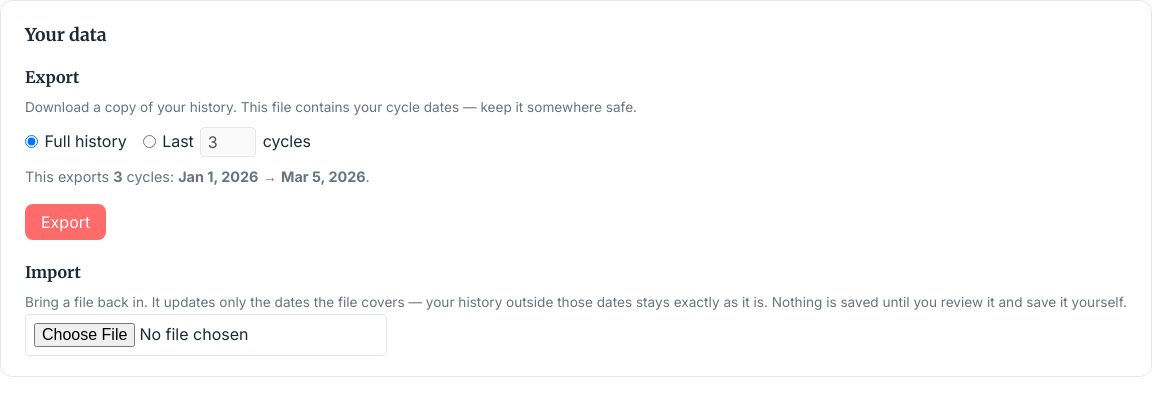
Test case: DataSection › shows the export date range and updates it when choosing Last N
This screenshot has width=1152, height=394.
Expected: the message shows "3 cycles", [25,168,370,185]
Click the radio button labelled "Last cycles".
click(149, 142)  # box [143,135,156,148]
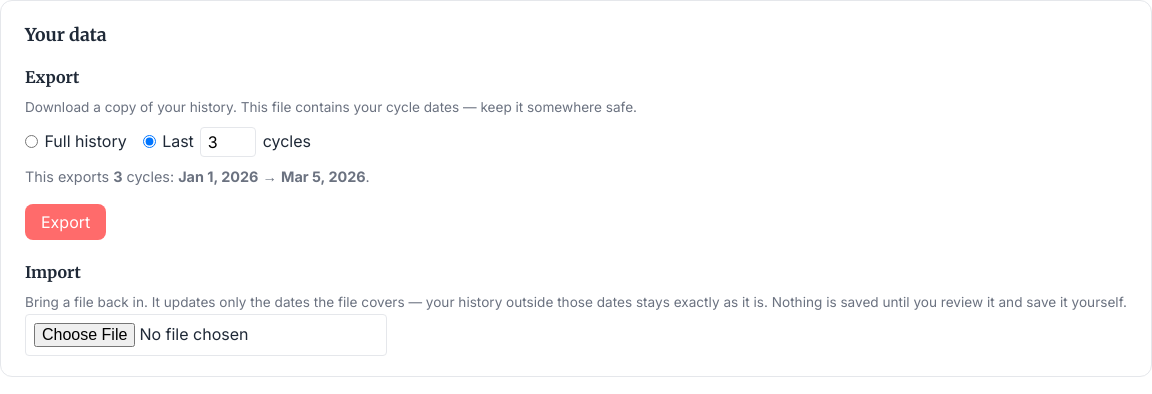
Replace the text in the number field named "number of cycles" with "1" at (228, 142), box [200,127,256,157]
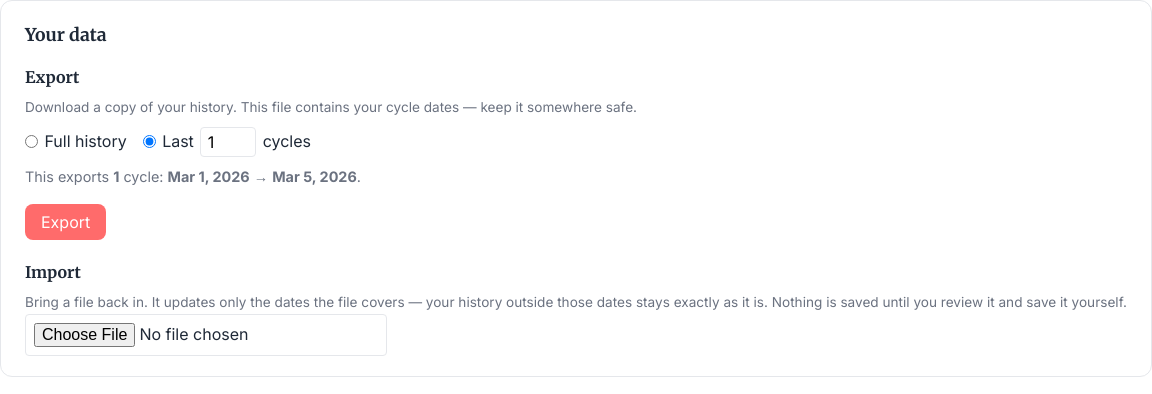
Expected: the message shows "1 cycle:", [25,168,361,185]
